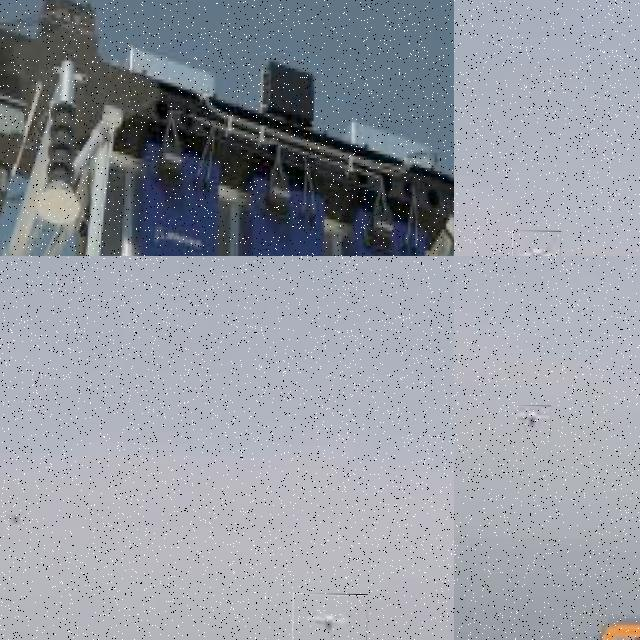0: (291, 592, 367, 640), (511, 229, 561, 256), (512, 404, 552, 437)
drone: (0, 0, 454, 256)
